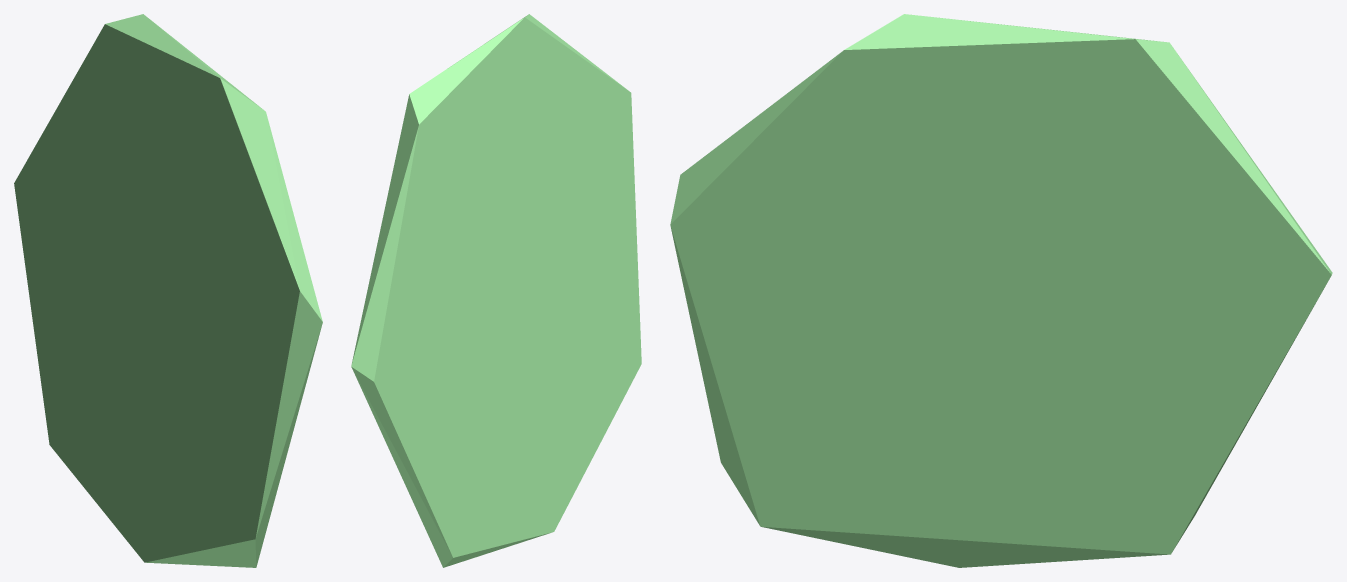
Rendered from UMIRobot_UMIRobot_link_5_convex_coll_31.dae.
3 views of the same model, side by side, from view 1: azimuth 30°, elevation 25°; view 2: azimuth 150°, elevation 25°; view 3: azimuth 270°, elevation 25° (orthographic). The views are drawn at different scales.
Parts seen in each view (by area): view 1: node; view 2: node; view 3: node.
Part boxes in pixels (<box>): node: <box>14,14,322,567</box>; node: <box>351,14,641,567</box>; node: <box>670,14,1332,567</box>.
Size of the model in its own units: 0.00132 by 0.00842 by 0.00864.
